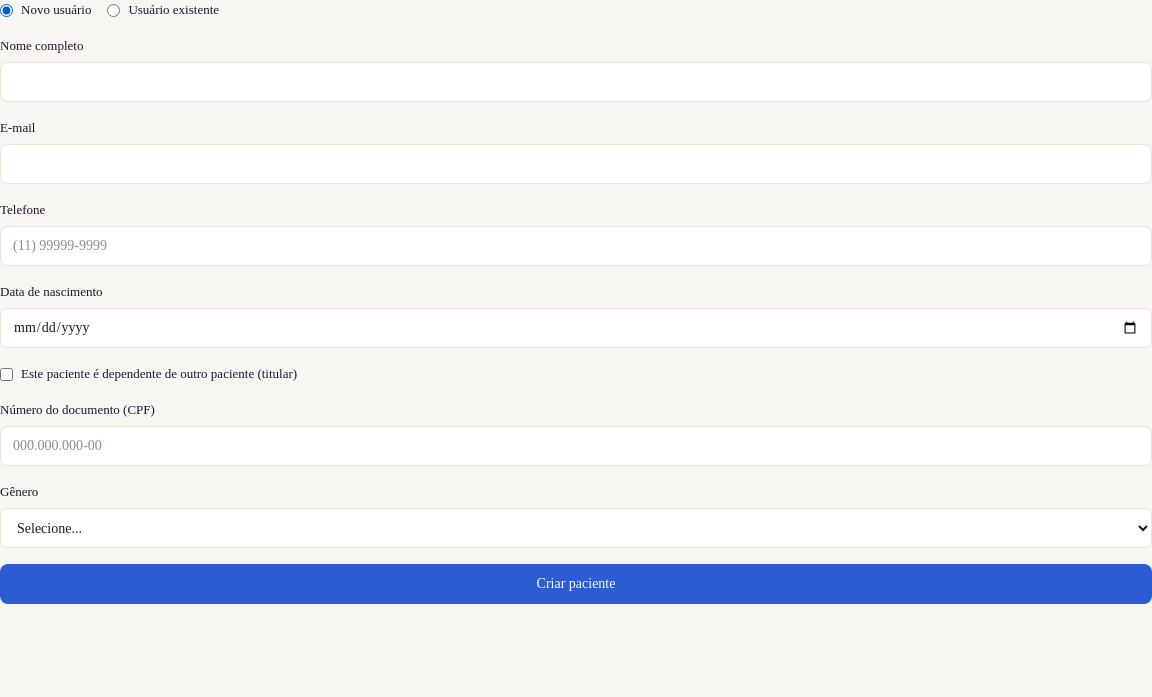
PatientForm (integration) — create mode › shows validation error for invalid email in new user mode
The image size is (1152, 697).
Step 1. Click the radio button with test id "patient-form-user-mode-new" → (6,10), box [0,4,13,16]
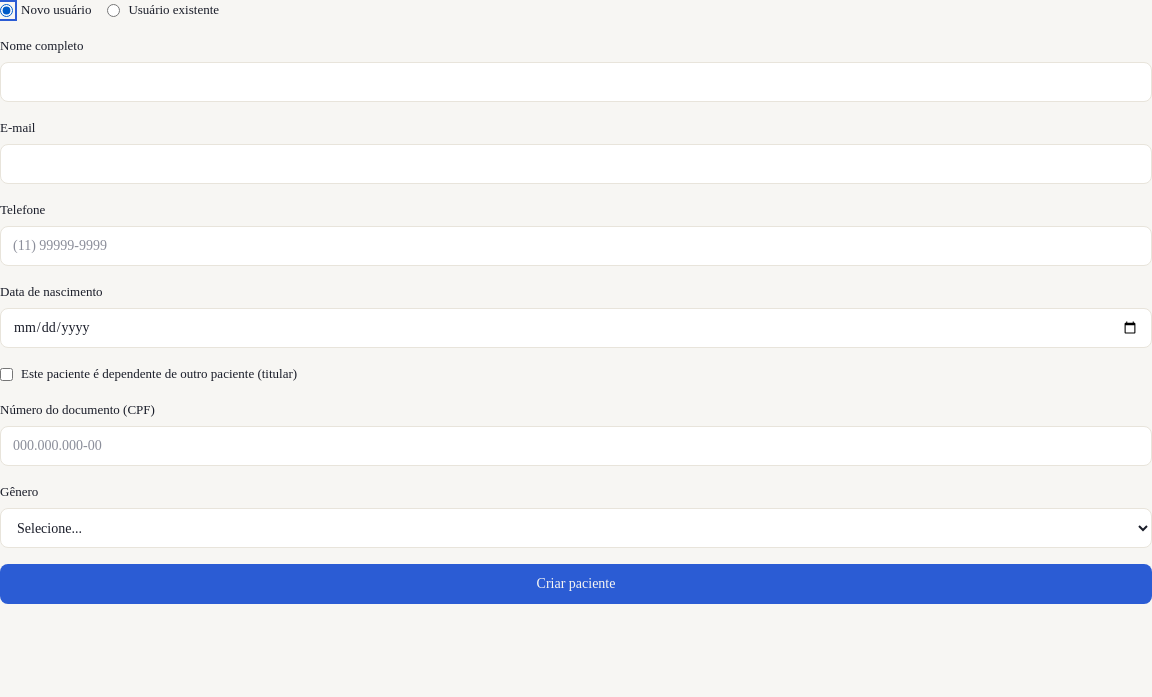
Step 2. Type "invalid-email" into the field with test id "patient-form-email" → (576,164), box [0,144,1151,184]
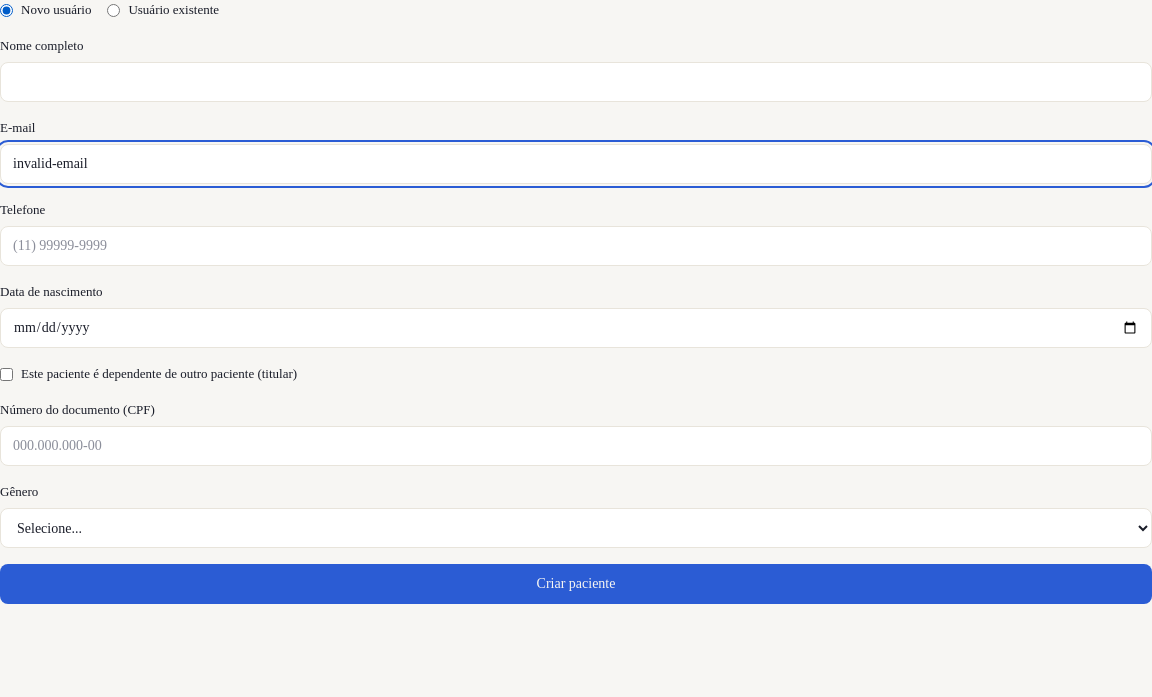
Step 3. Click the button with test id "patient-form-submit" → (576,584), box [0,564,1151,604]
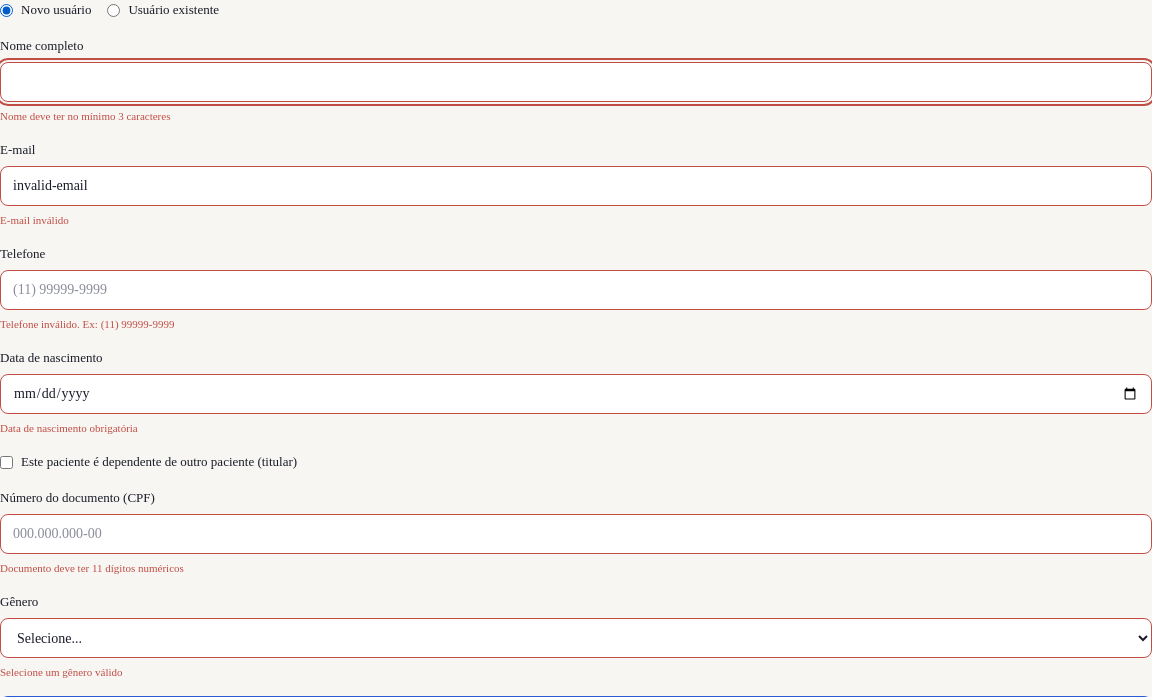
Result: the text "E-mail inválido" is shown at [0,214,69,226]
